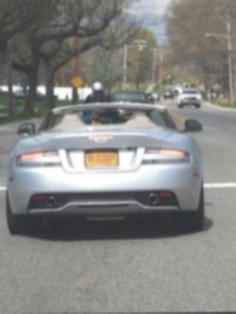License_Plate: (83, 146, 119, 167)
